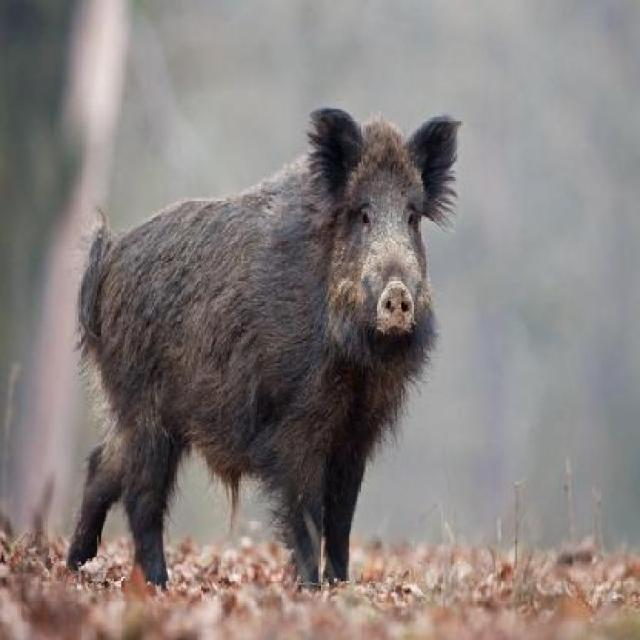wildboar: (56, 108, 461, 595)
